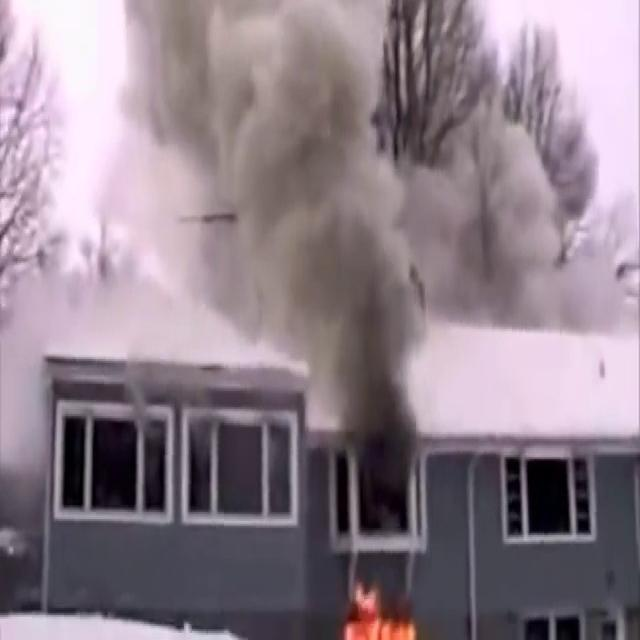Fire: (337, 579, 426, 640)
Smoke: (42, 0, 620, 393)
